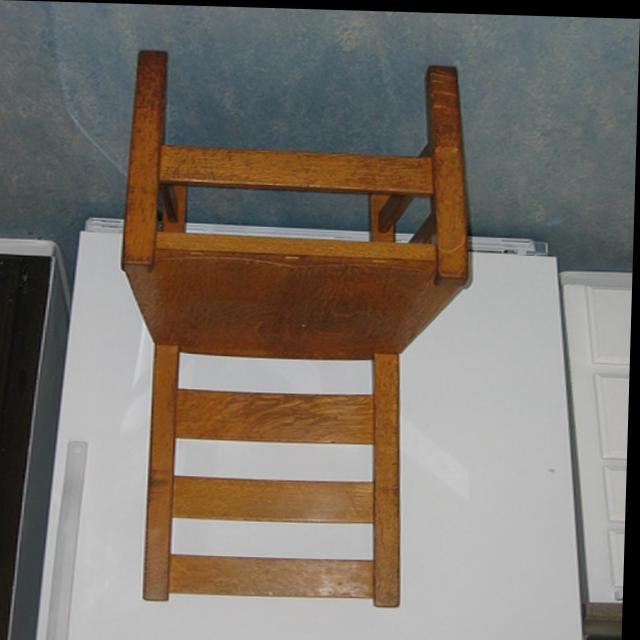Chair: (113, 49, 475, 608)
